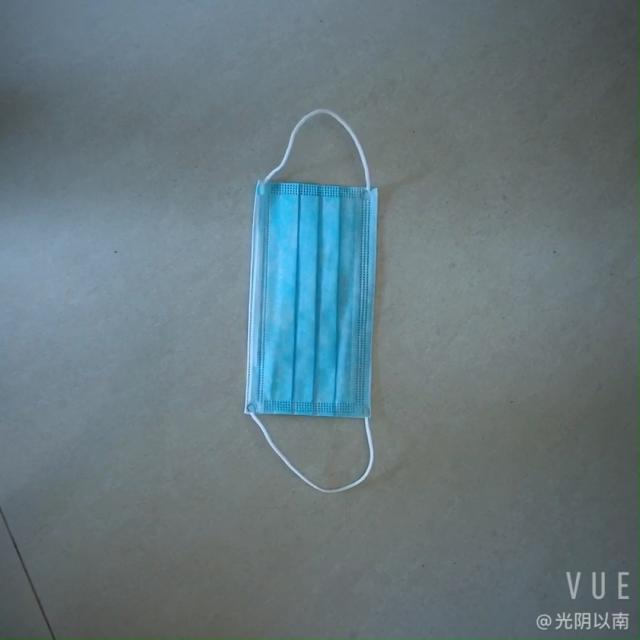face mask: (242, 168, 386, 432)
